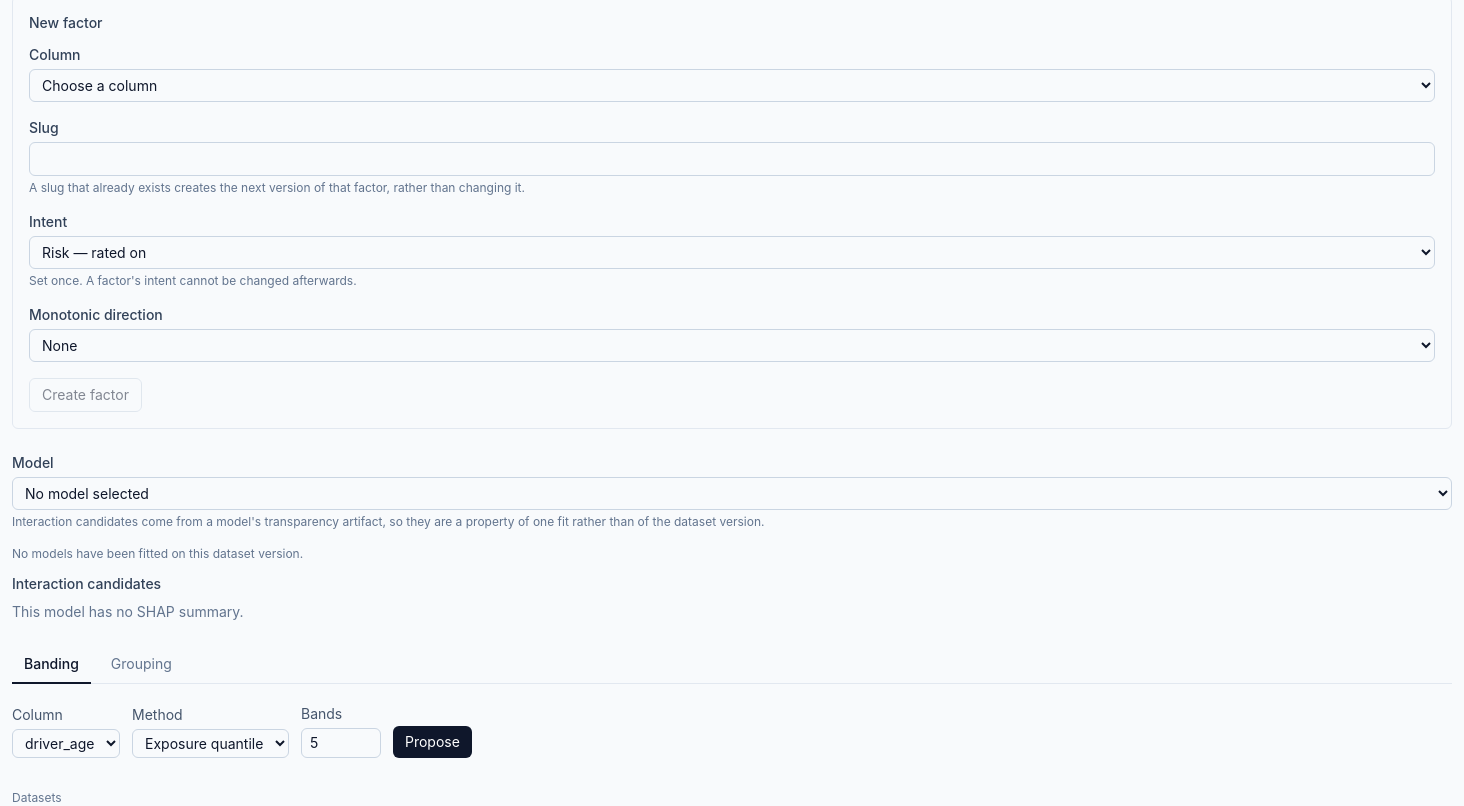
it: the factor workbench › surfaces a refusal as the problem the platform sent
(page scrolled)
expect the dropdown named "Column to band" is shown: met, box [12,729,120,758]
Step 1. Click the button "Propose" → (432, 742), box [393,726,472,758]
(page scrolled)
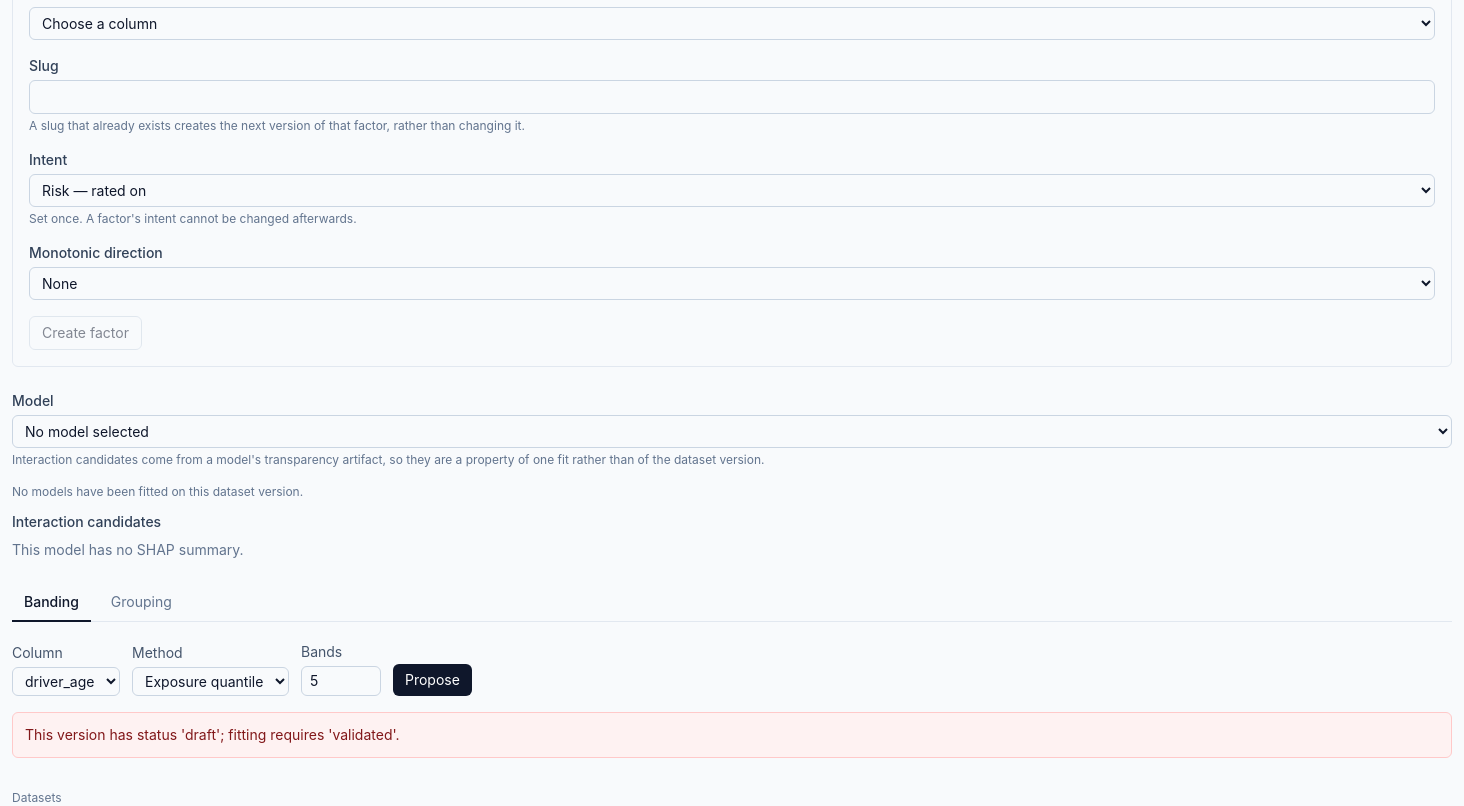
expect the text "This version has status 'draft'; fitting requires 'validated'." is shown: met, box [12,712,1452,758]
